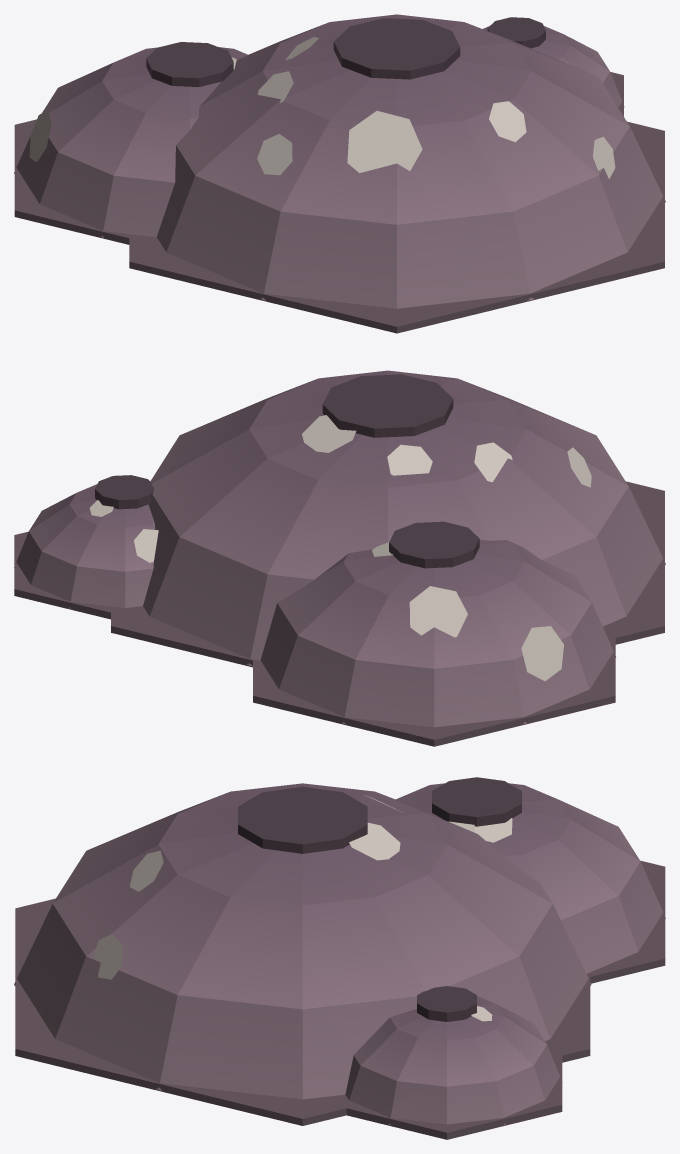
File: spore_pod_v1.glb
The picture shows the model from 3 angles, top to bottom: view 1: azimuth 30°, elevation 25°; view 2: azimuth 150°, elevation 25°; view 3: azimuth 270°, elevation 25°; orthographic projection. The views are drawn at different scales.
Visible parts, largest first — view 1: world; view 2: world; view 3: world.
Part boxes in pixels (left/top/right/bottom): world: left=14, top=14, right=665, bottom=333; world: left=14, top=370, right=665, bottom=746; world: left=14, top=777, right=665, bottom=1139.
Bounding box in the file's own units: 1 × 0.2542 × 0.883.
